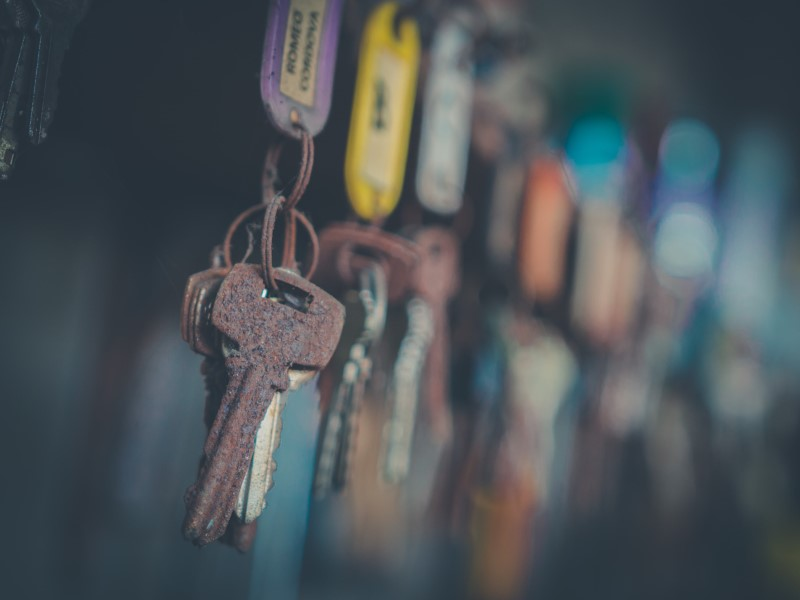key: (178, 203, 352, 552)
